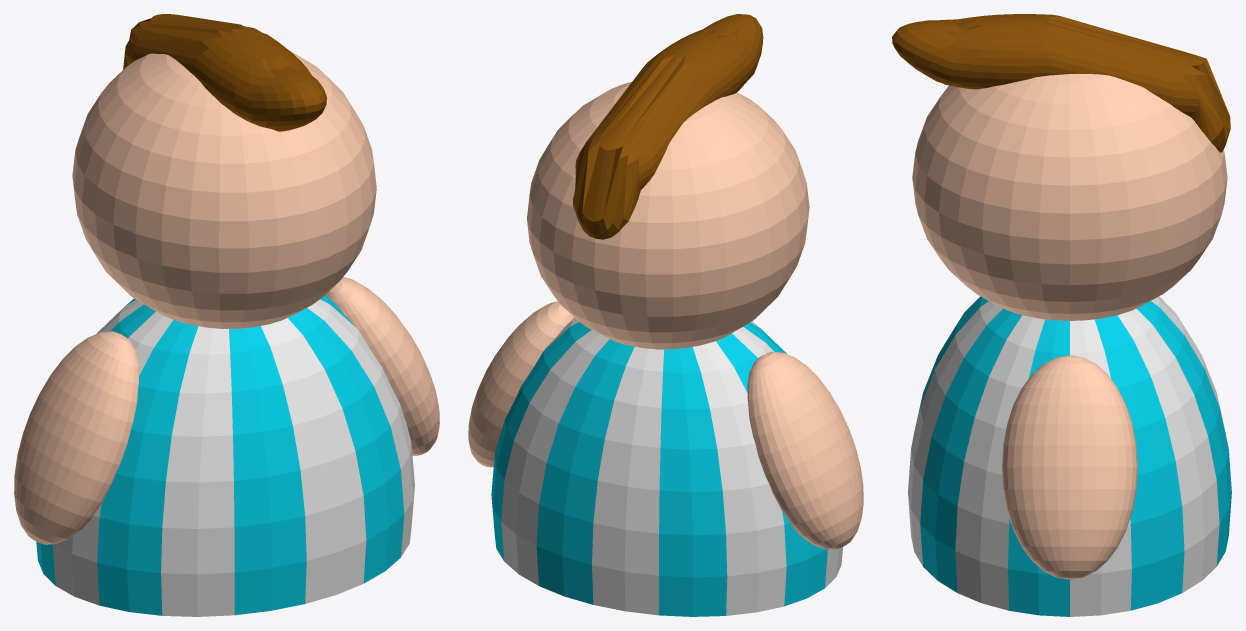
The model's file is Jugador 2.fbx.
The picture shows the model from 3 angles, left to right: view 1: azimuth 30°, elevation 25°; view 2: azimuth 150°, elevation 25°; view 3: azimuth 270°, elevation 25°; orthographic projection. The views are drawn at different scales.
Visible parts, largest first — view 1: Sphere, Sphere.001, Sphere.004, Sphere.002, Sphere.005, Sphere.003; view 2: Sphere, Sphere.004, Sphere.001, Sphere.005, Sphere.002, Sphere.003; view 3: Sphere, Sphere.001, Sphere.004, Sphere.003, Sphere.005.
Boxes of the visible parts, x1,y1,x2,y2 form: Sphere: [72, 50, 376, 328]; Sphere.001: [36, 295, 404, 615]; Sphere.004: [52, 299, 414, 616]; Sphere.002: [14, 331, 139, 544]; Sphere.005: [123, 14, 326, 131]; Sphere.003: [325, 277, 439, 455]; Sphere: [527, 82, 809, 349]; Sphere.004: [501, 318, 842, 615]; Sphere.001: [491, 322, 827, 616]; Sphere.005: [573, 14, 763, 239]; Sphere.002: [747, 351, 863, 549]; Sphere.003: [468, 301, 574, 467]; Sphere: [912, 74, 1227, 320]; Sphere.001: [912, 296, 1231, 616]; Sphere.004: [908, 296, 1227, 616]; Sphere.003: [1002, 355, 1137, 579]; Sphere.005: [892, 14, 1230, 152].
Size of the model in its own units: 236 by 291 by 174.
